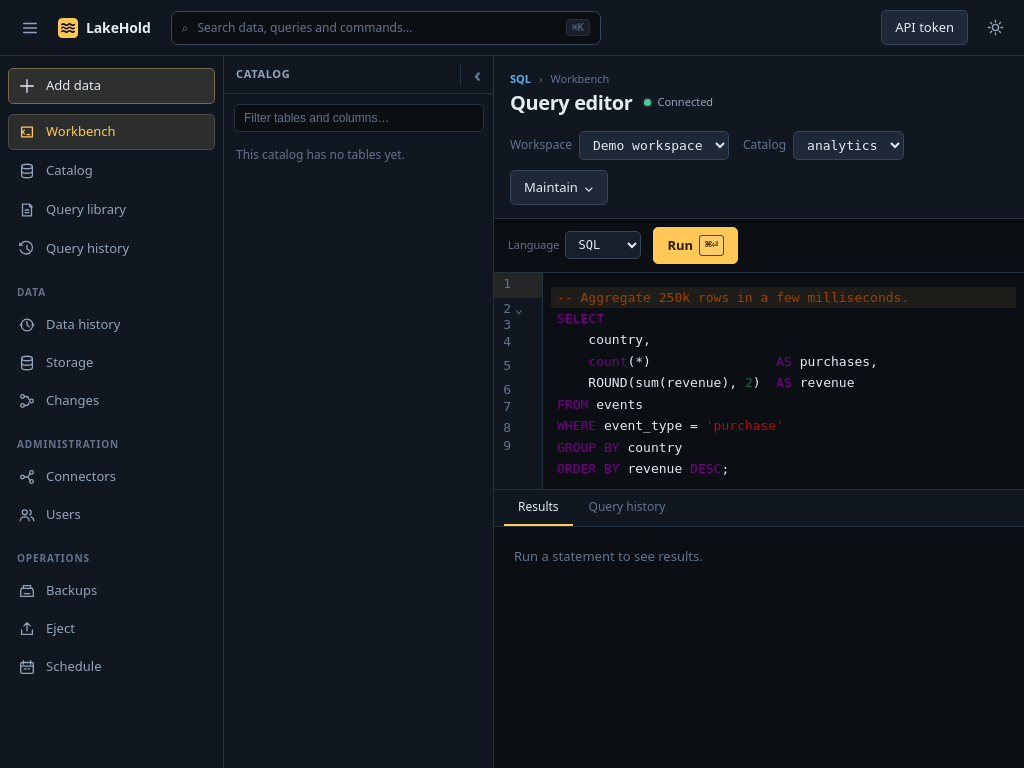
Test: WorkbenchComponent › credential affordance › points at the bootstrap token when the node is gated and holds no credential
Click the button "API token" at [925, 28], box [881,10,968,45]
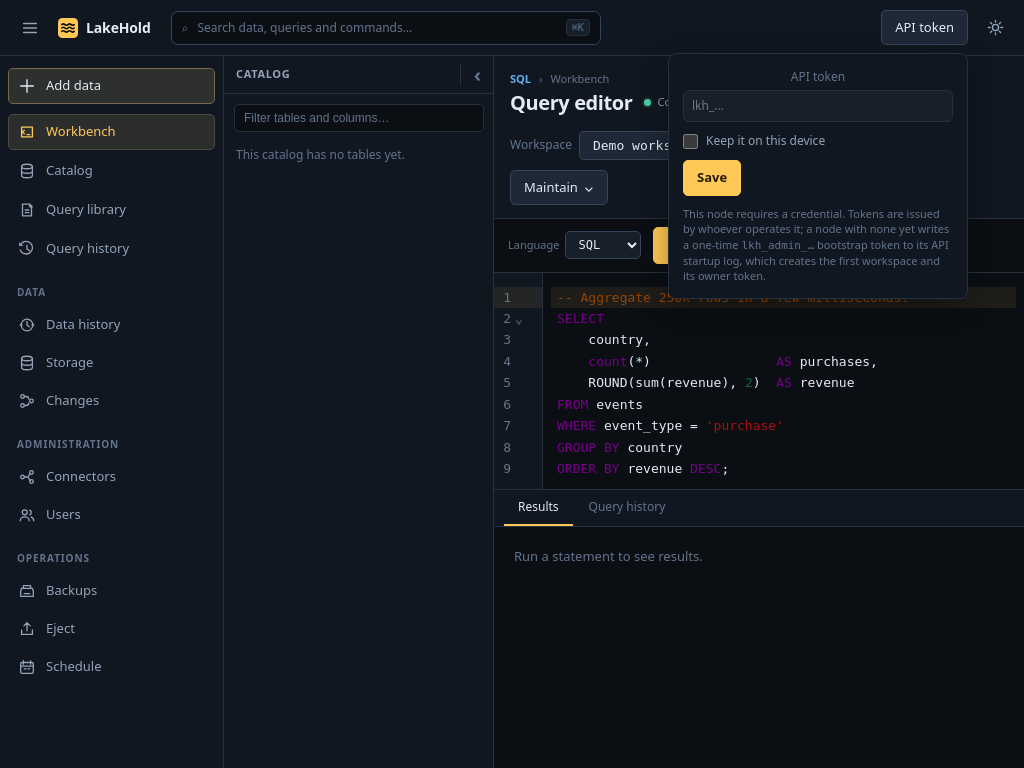
Expected: the text "lkh_admin_" is shown, [741,238,814,252]
